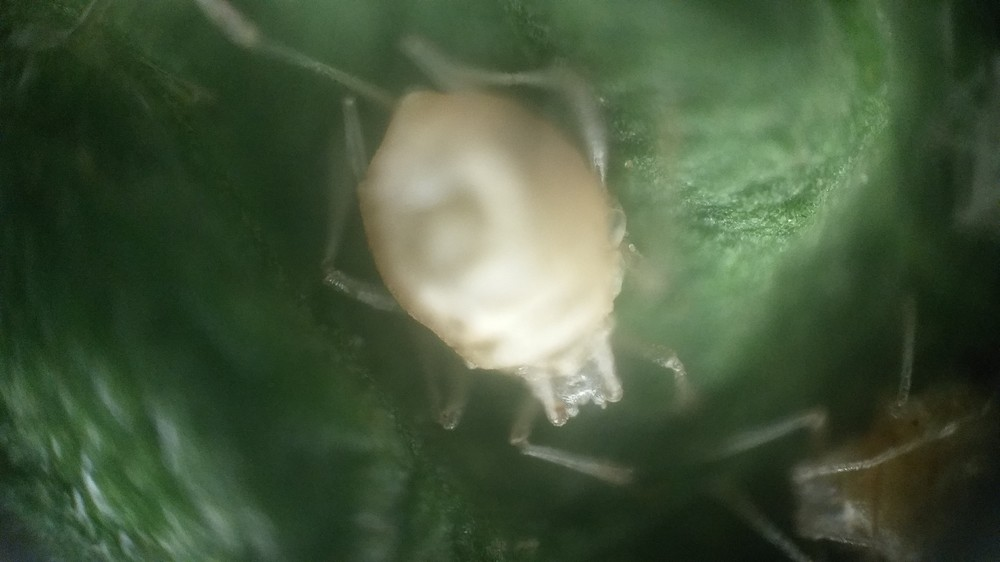Pulgon: (287, 37, 762, 494)
